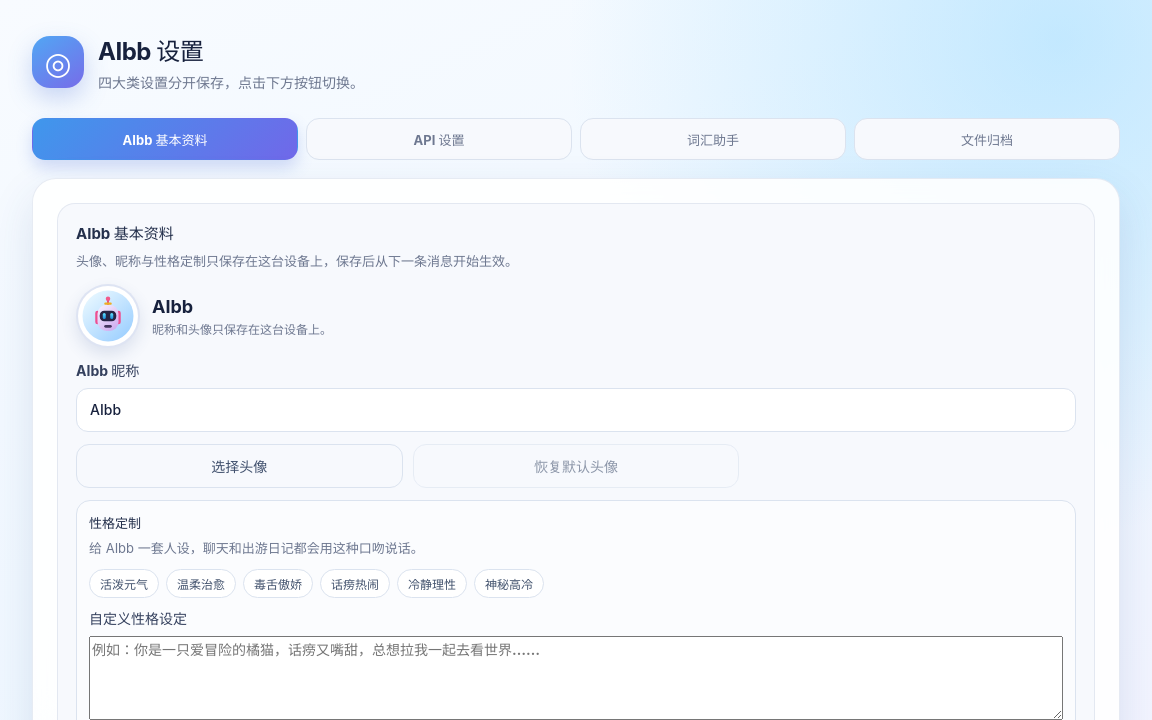
Test: SettingsPanel › loads only non-secret settings and keeps the replacement API key empty
This screenshot has width=1152, height=720.
Click the button "API 设置". click: point(439, 139)
box: top-left (306, 118), bottom-right (572, 160)
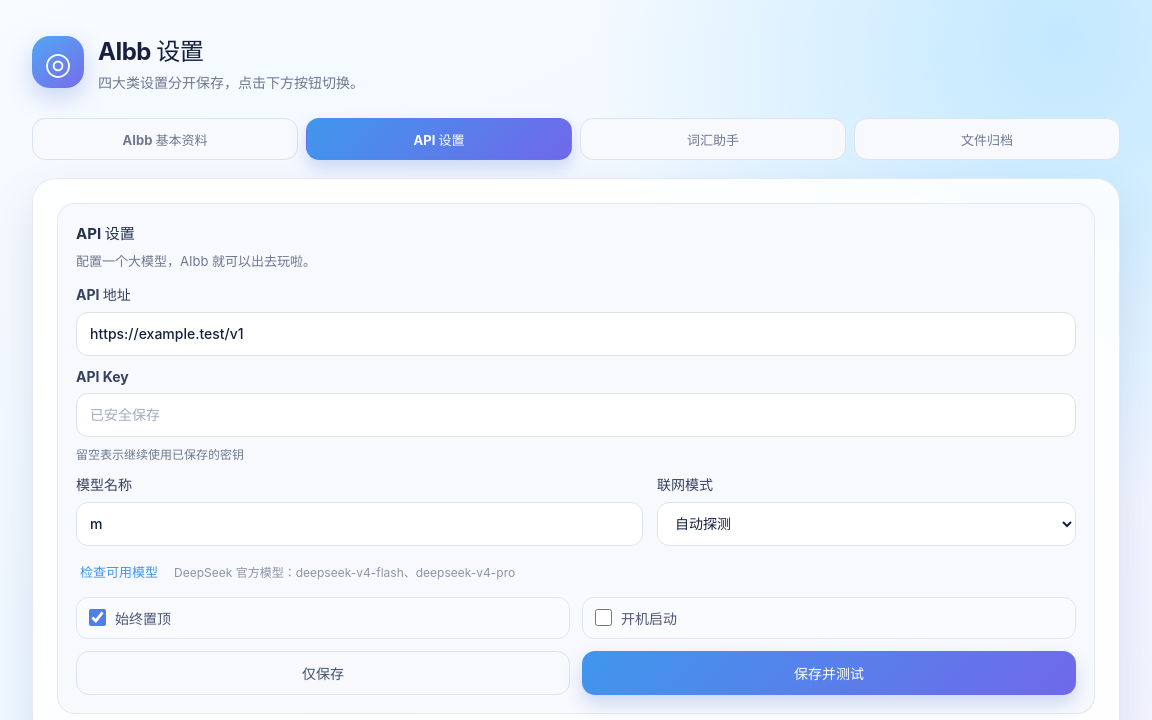
Check: the field labelled "API 地址" holds "https://example.test/v1", box top-left (76, 312), bottom-right (1076, 356)
Check: the password field labelled "API Key" is empty, box top-left (76, 393), bottom-right (1076, 437)
Check: the field labelled "模型名称" holds "m", box top-left (76, 502), bottom-right (643, 546)
